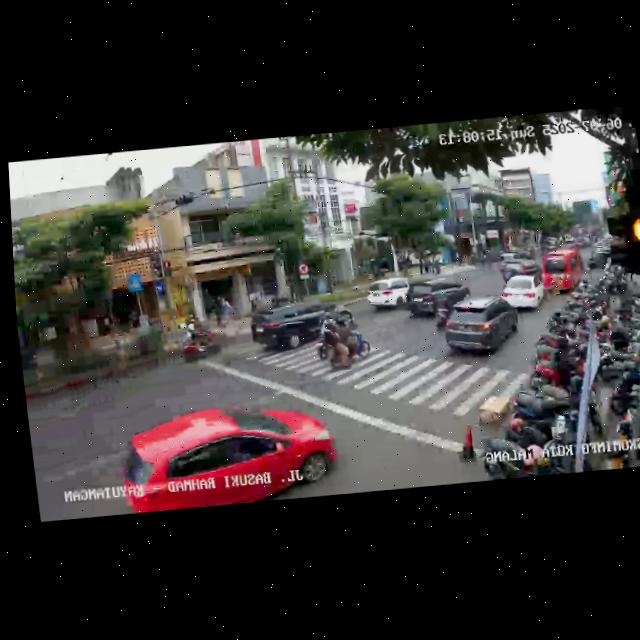car: (113, 397, 341, 513), (438, 296, 522, 362), (250, 298, 329, 355), (404, 275, 475, 322), (540, 247, 589, 297), (498, 271, 547, 315), (363, 276, 414, 313), (501, 257, 544, 285)
motorcycle: (310, 305, 372, 373), (169, 318, 222, 366)
